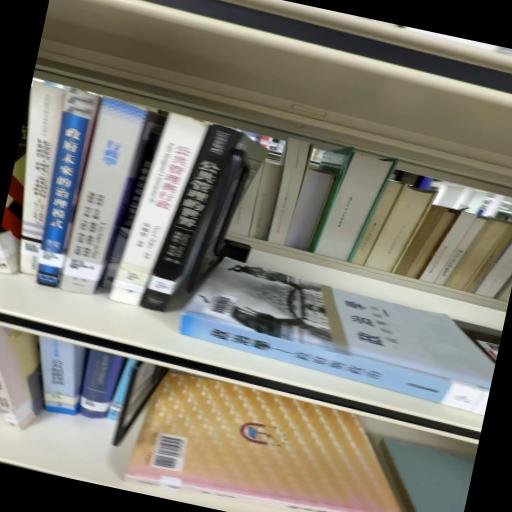flat: (179, 257, 495, 415), (124, 372, 400, 512)
